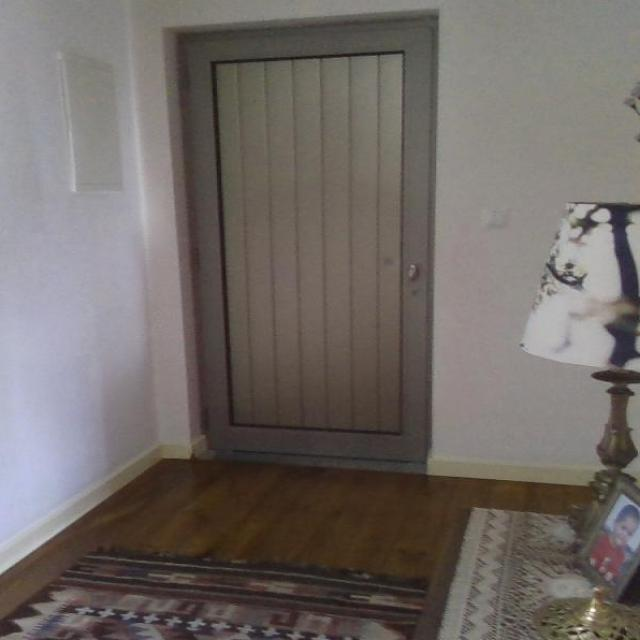door: (178, 31, 440, 466)
